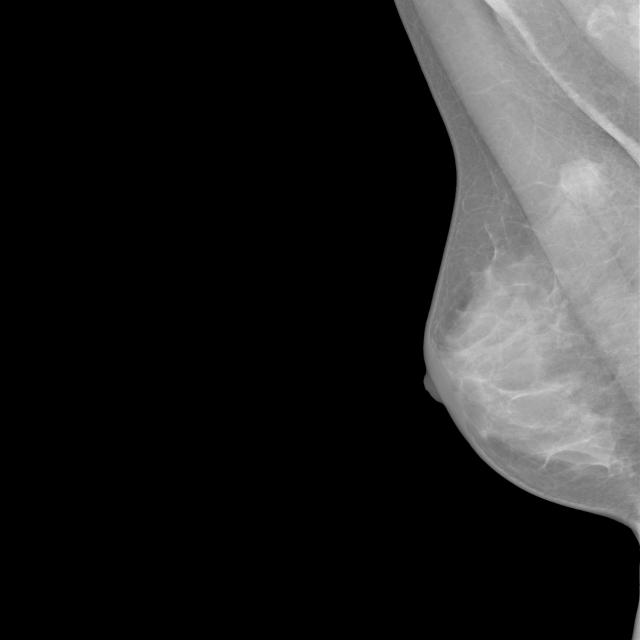Mass_1: (534, 143, 634, 224)
